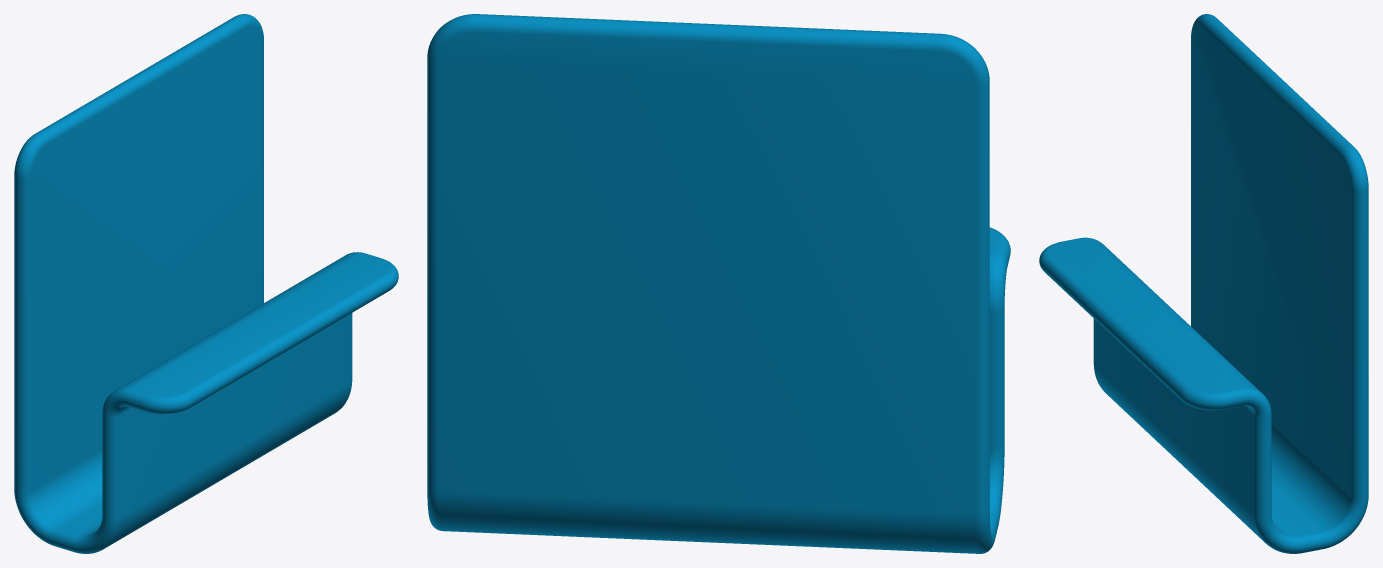
Rendered from news-3d-animated-icon-1181177664750.glb.
The picture shows the model from 3 angles, left to right: view 1: azimuth 30°, elevation 25°; view 2: azimuth 150°, elevation 25°; view 3: azimuth 270°, elevation 25°; orthographic projection. The views are drawn at different scales.
Parts seen in each view (by area): view 1: Plane.017; view 2: Plane.017; view 3: Plane.017.
Boxes of the visible parts, box(x1,y1,x2,y2) form: Plane.017: box(14, 14, 398, 553); Plane.017: box(427, 14, 1010, 553); Plane.017: box(1039, 14, 1368, 553).
Size of what is drawn, in the model's own units: 1.63 by 1.59 by 1.23.
